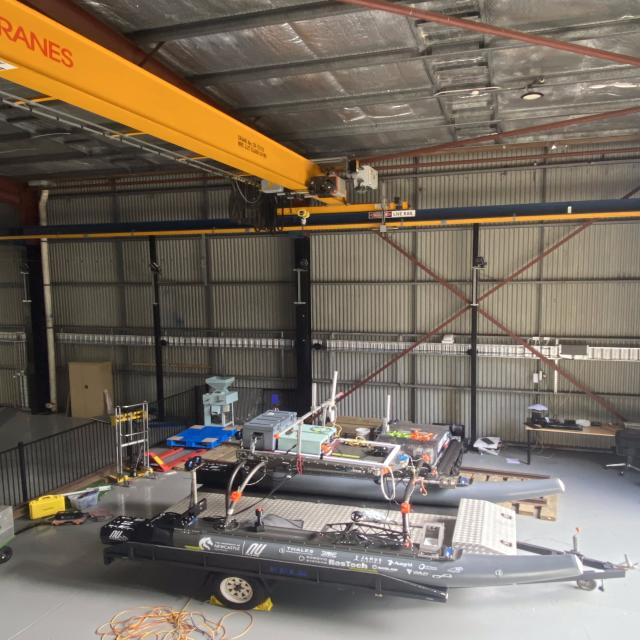matrix: (268, 392, 282, 404)
